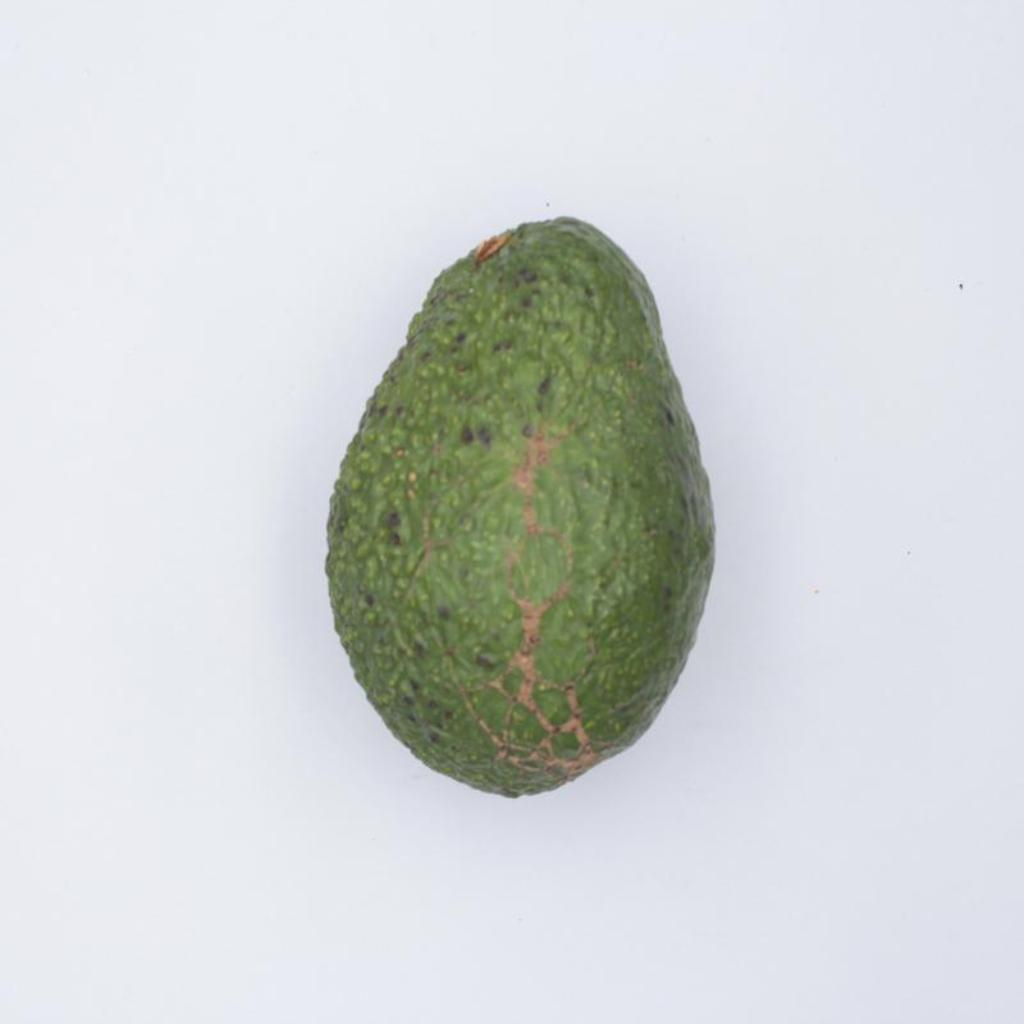scab: (325, 218, 713, 794)
